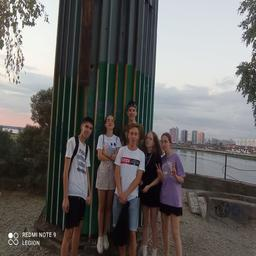person: (63, 117, 94, 256), (114, 123, 144, 256), (156, 133, 186, 256), (96, 114, 122, 253), (138, 131, 162, 256)
